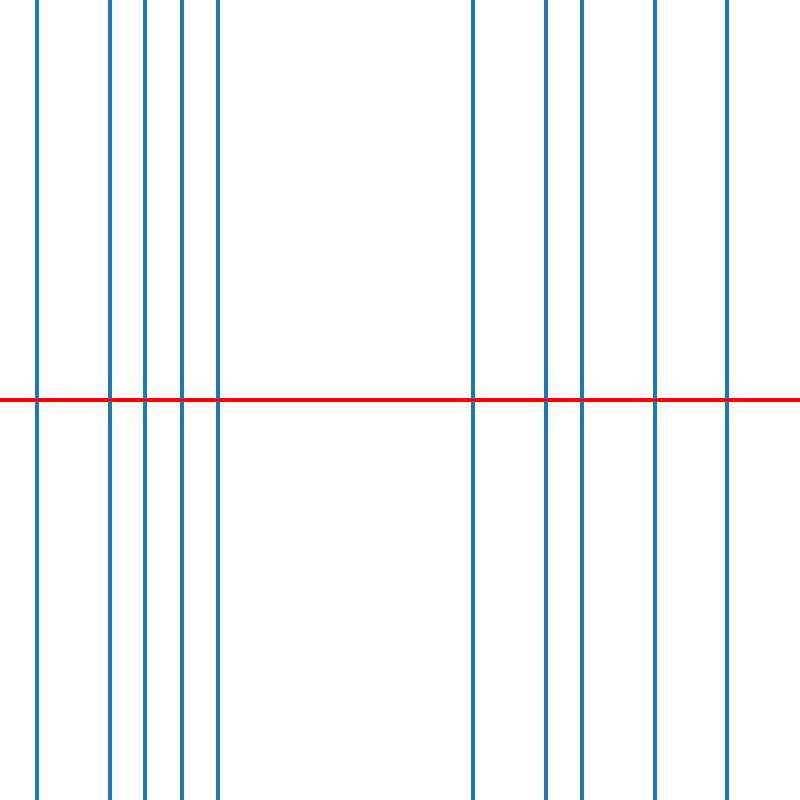root: (541, 396, 549, 404), (32, 396, 40, 404), (650, 396, 658, 404), (141, 396, 149, 404), (105, 396, 112, 404), (578, 396, 585, 404), (723, 396, 730, 404), (178, 396, 185, 404), (214, 396, 221, 404), (469, 396, 476, 404)
